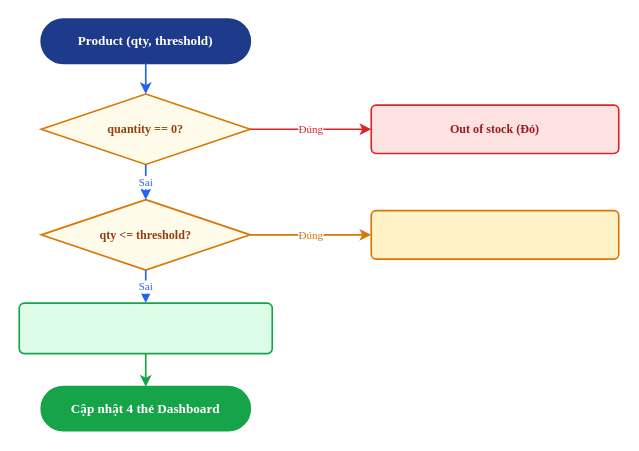
Some shapes in this 639 by 451 pixel diagram are drawn without their labels. Each missing label, with the centre of its shape:
In stock (Xanh lá): point (145, 328)
Low stock (Vàng): point (494, 234)
